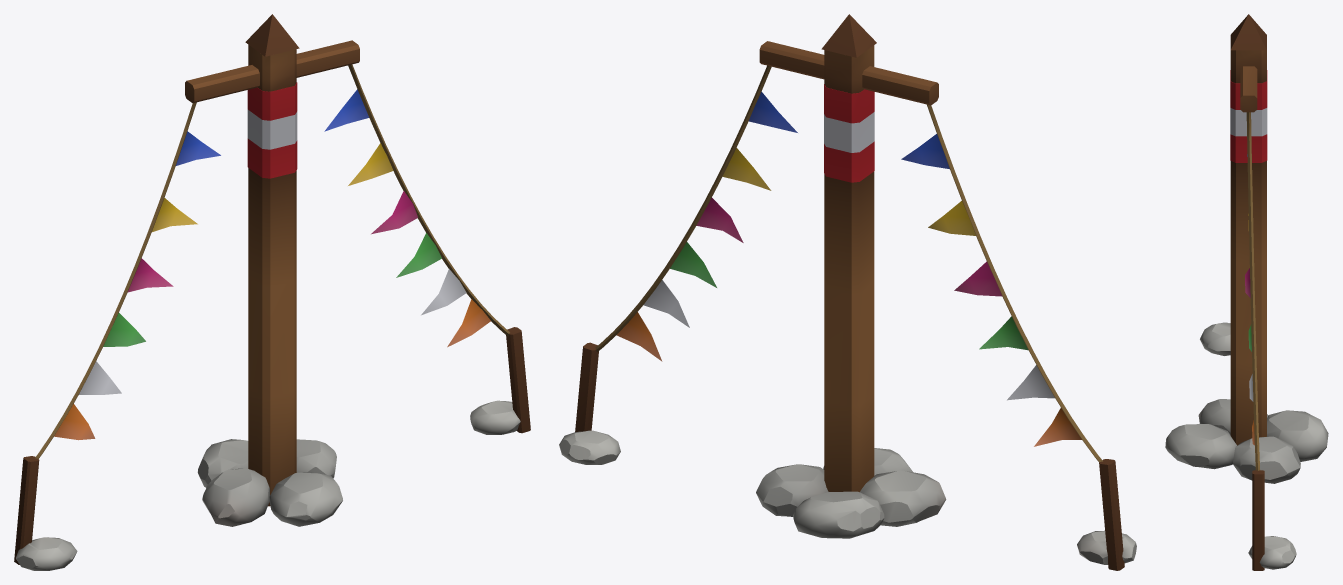
Rendered from flag_post.glb.
3 renders of one model, left to right at view 1: azimuth 30°, elevation 25°; view 2: azimuth 150°, elevation 25°; view 3: azimuth 270°, elevation 25°, orthographic. The views are drawn at different scales.
Parts seen in each view (by area): view 1: flag_post; view 2: flag_post; view 3: flag_post.
Part boxes in pixels (box(x1,y1,x2,y2)): flag_post: box(14, 14, 530, 570); flag_post: box(559, 14, 1136, 570); flag_post: box(1165, 14, 1328, 570).
Size of the model in its own units: 2.31 by 2 by 0.6708.
